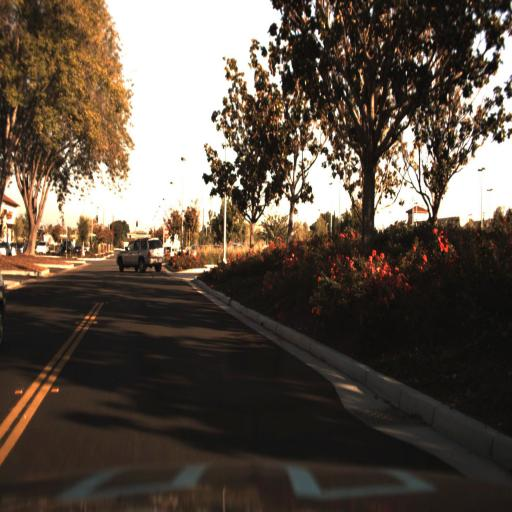car: (104, 231, 169, 285), (32, 236, 53, 260)
